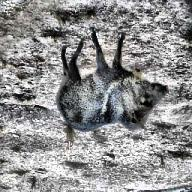boar: (55, 26, 168, 132)
